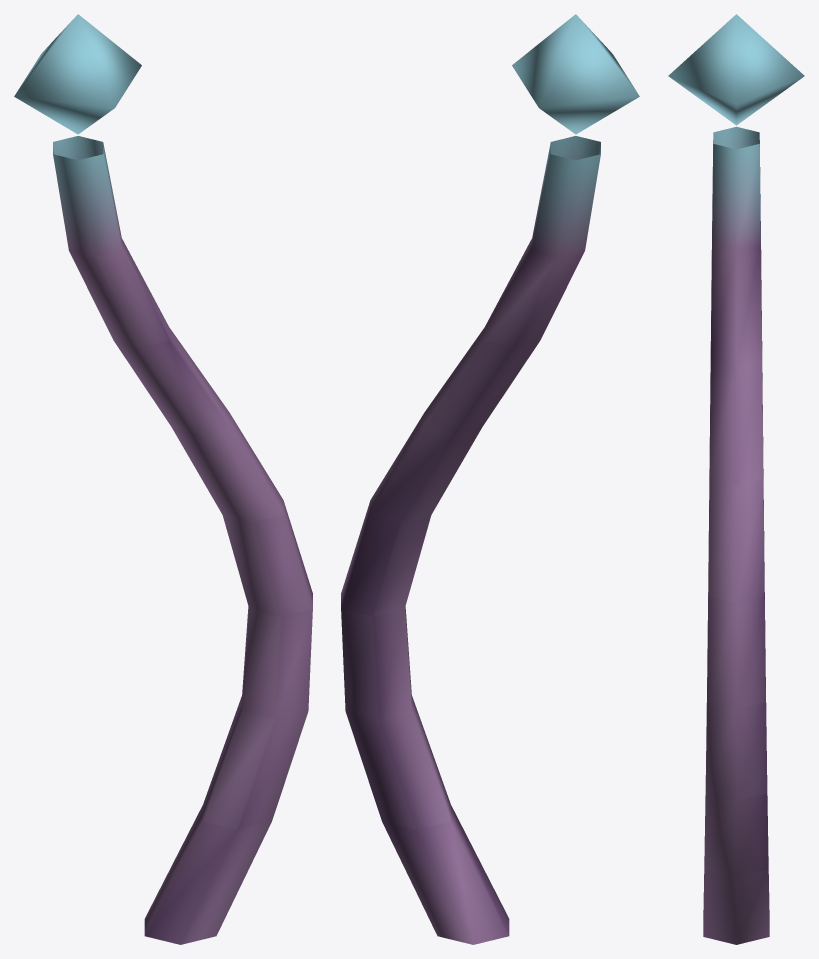
The model's file is Enchanted_Twig.glb.
3 renders of one model, left to right at view 1: azimuth 30°, elevation 25°; view 2: azimuth 150°, elevation 25°; view 3: azimuth 270°, elevation 25°, orthographic. The views are drawn at different scales.
Visible parts, largest first — view 1: EnchTwig; view 2: EnchTwig; view 3: EnchTwig.
Part boxes in pixels (x1,y1,x2,y2): EnchTwig: [14, 14, 312, 944]; EnchTwig: [341, 14, 639, 944]; EnchTwig: [668, 14, 804, 944].
Size of the model in its own units: 0.1167 by 0.35 by 0.05.
